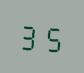five: (41, 19, 62, 54)
three: (19, 18, 40, 52)
